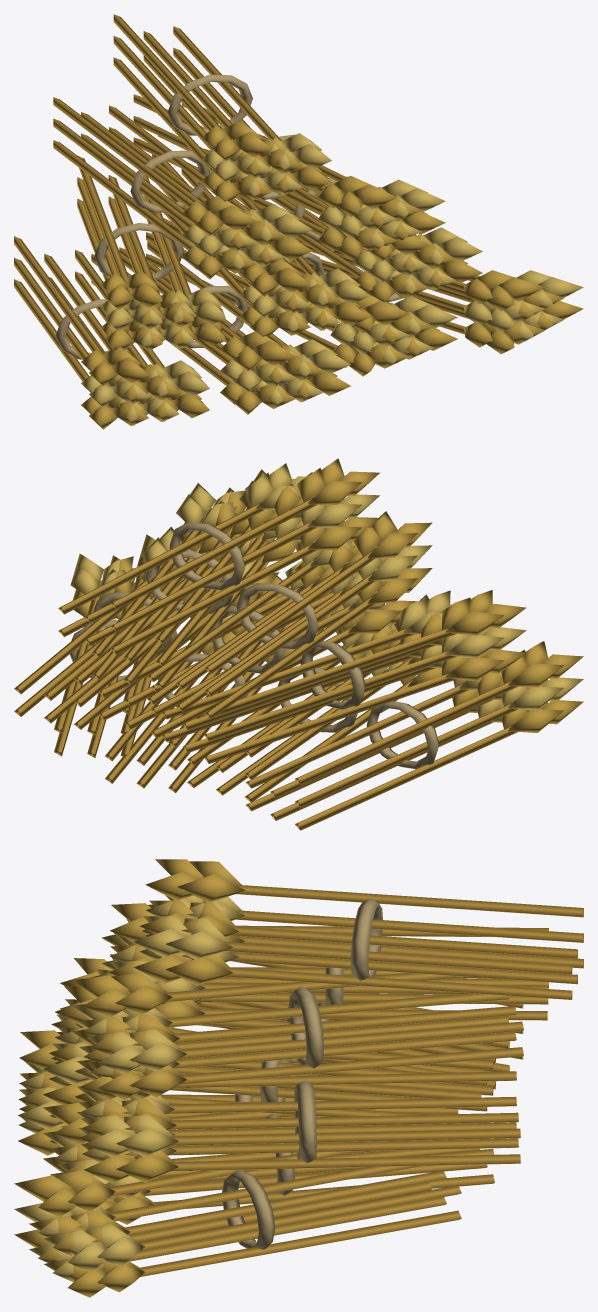
The model's file is pile-wheat-10.gltf.
3 renders of one model, top to bottom at view 1: azimuth 30°, elevation 25°; view 2: azimuth 150°, elevation 25°; view 3: azimuth 270°, elevation 25°, orthographic. The views are drawn at different scales.
Parts seen in each view (by area): view 1: pile-wheat-10; view 2: pile-wheat-10; view 3: pile-wheat-10.
Part boxes in pixels (bbox=[...]): pile-wheat-10: bbox=[14, 14, 583, 429]; pile-wheat-10: bbox=[14, 458, 583, 830]; pile-wheat-10: bbox=[14, 859, 583, 1297].
Size of the model in its own units: 0.7706 by 0.3538 by 0.6658.
